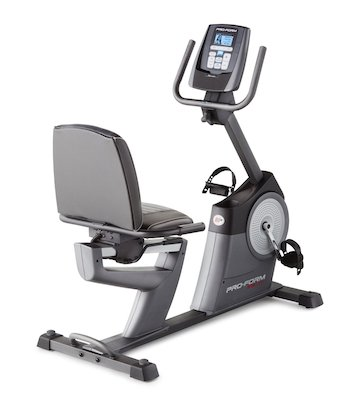gym_bike: (26, 20, 331, 380)
